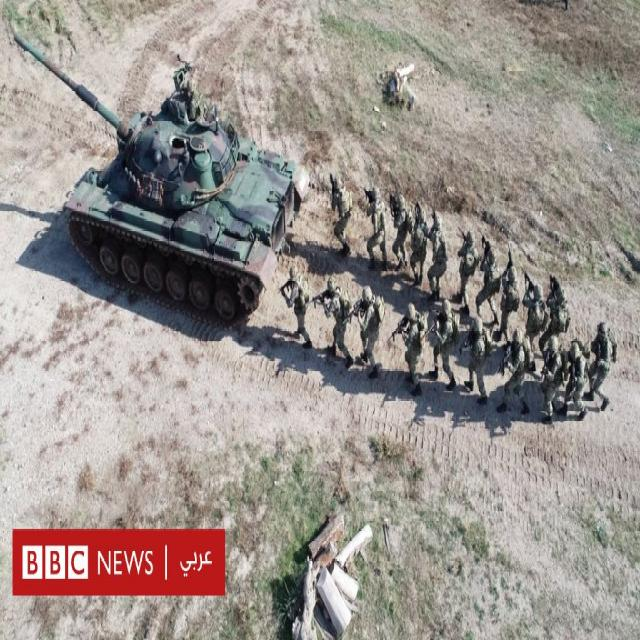tank: (8, 28, 311, 330)
